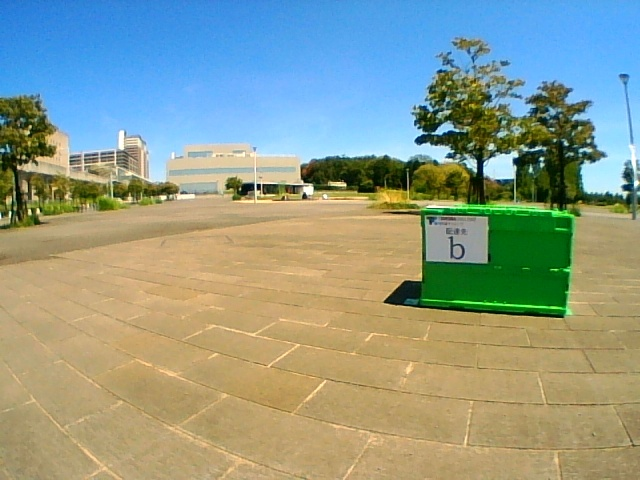green_box: (422, 204, 574, 317)
tag_b: (424, 218, 486, 261)
